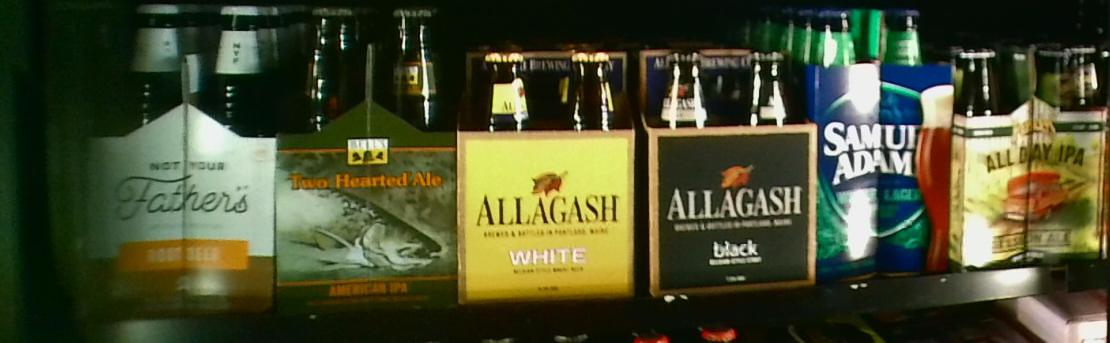bottle: (93, 2, 273, 311), (279, 5, 458, 313), (465, 35, 643, 305), (642, 41, 812, 286), (809, 9, 948, 282), (955, 45, 1102, 258)
